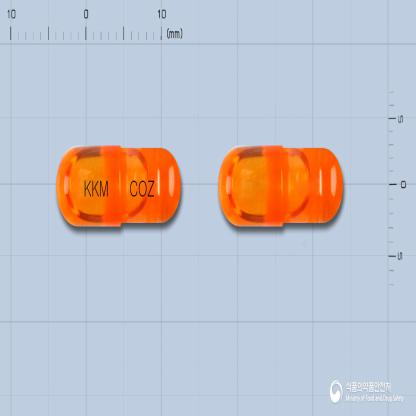pill: (54, 144, 182, 229), (216, 143, 344, 228)
